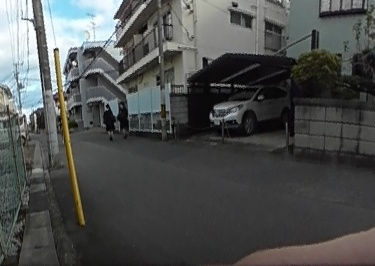person: (100, 102, 117, 138), (116, 102, 131, 137)
